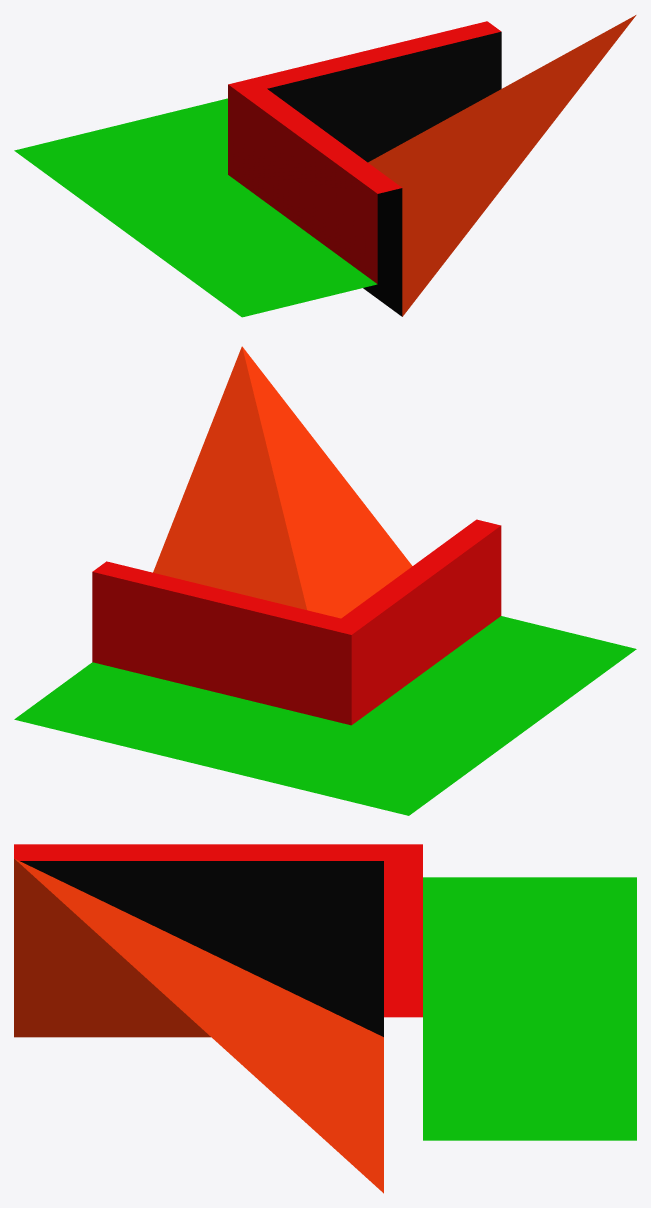
The picture shows the model from 3 angles, top to bottom: view 1: azimuth 30°, elevation 25°; view 2: azimuth 150°, elevation 25°; view 3: azimuth 270°, elevation 25°; orthographic projection. The views are drawn at different scales.
Visible parts, largest first — view 1: None_W_S_E_E_W_W_E_E_None; view 2: None_W_S_E_E_W_W_E_E_None; view 3: None_W_S_E_E_W_W_E_E_None.
Boxes of the visible parts, x1,y1,x2,y2 form: None_W_S_E_E_W_W_E_E_None: (14, 15, 636, 317); None_W_S_E_E_W_W_E_E_None: (14, 346, 636, 815); None_W_S_E_E_W_W_E_E_None: (14, 844, 636, 1193).
Size of the model in its own units: 100 by 59.38 by 100.
